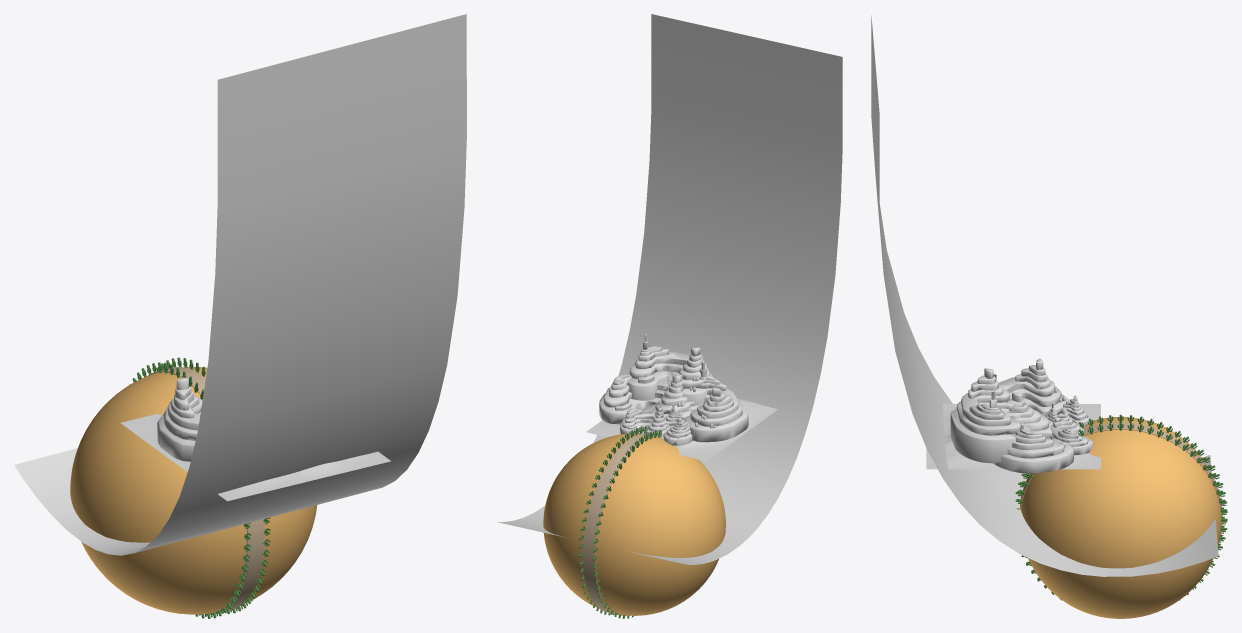
Rendered from desert.fbx.
3 views of the same model, side by side, from view 1: azimuth 30°, elevation 25°; view 2: azimuth 150°, elevation 25°; view 3: azimuth 270°, elevation 25° (orthographic). The views are drawn at different scales.
Visible parts, largest first — view 1: Extrude_6_6, Sphere_1, Landscape, Extrude_2_4; view 2: Extrude_6_6, Sphere_1, Landscape, Extrude_2_4, Extrude_5_6, Extrude_4_6, Extrude_2_2, Extrude_1_2, Extrude_1_5, Extrude_1_3, Extrude_2_3, Extrude_2_6; view 3: Sphere_1, Extrude_6_6, Landscape, Extrude_5_6, Extrude_4_6, Extrude_1_2, Extrude_2_2, Extrude_1_5, Extrude_2_3, Extrude_2_6.
Part boxes in pixels (x1,y1,x2,y2): Extrude_6_6: [14, 14, 466, 555]; Sphere_1: [70, 367, 317, 614]; Landscape: [121, 414, 390, 501]; Extrude_2_4: [157, 414, 195, 461]; Extrude_6_6: [497, 14, 842, 564]; Sphere_1: [543, 433, 725, 615]; Landscape: [586, 399, 777, 461]; Extrude_2_4: [684, 404, 748, 442]; Extrude_5_6: [627, 371, 713, 405]; Extrude_4_6: [599, 393, 692, 424]; Extrude_2_2: [635, 352, 706, 379]; Extrude_1_2: [630, 363, 709, 388]; Extrude_1_5: [603, 387, 690, 414]; Extrude_1_3: [690, 395, 742, 426]; Extrude_2_3: [692, 388, 738, 418]; Extrude_2_6: [609, 380, 687, 405]; Sphere_1: [1020, 417, 1222, 618]; Extrude_6_6: [871, 15, 1218, 576]; Landscape: [926, 404, 1100, 469]; Extrude_5_6: [950, 408, 1030, 463]; Extrude_4_6: [993, 420, 1073, 473]; Extrude_1_2: [956, 395, 1020, 435]; Extrude_2_2: [961, 389, 1010, 426]; Extrude_1_5: [1007, 414, 1064, 458]; Extrude_2_3: [999, 377, 1055, 396]; Extrude_2_6: [1012, 409, 1053, 450].
Bounding box in the file's own units: 385 × 955 × 564.
